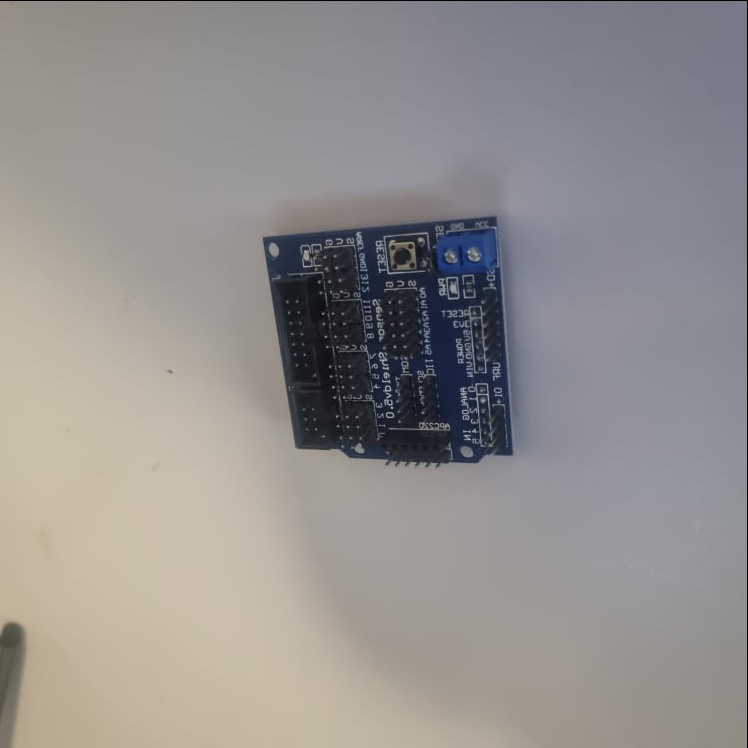5V EXPANSION: (263, 216, 515, 461)
